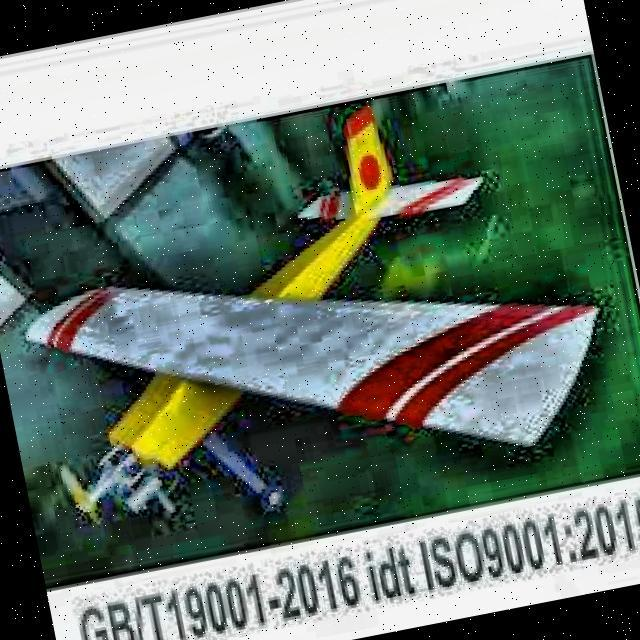iha: (0, 62, 637, 547)
